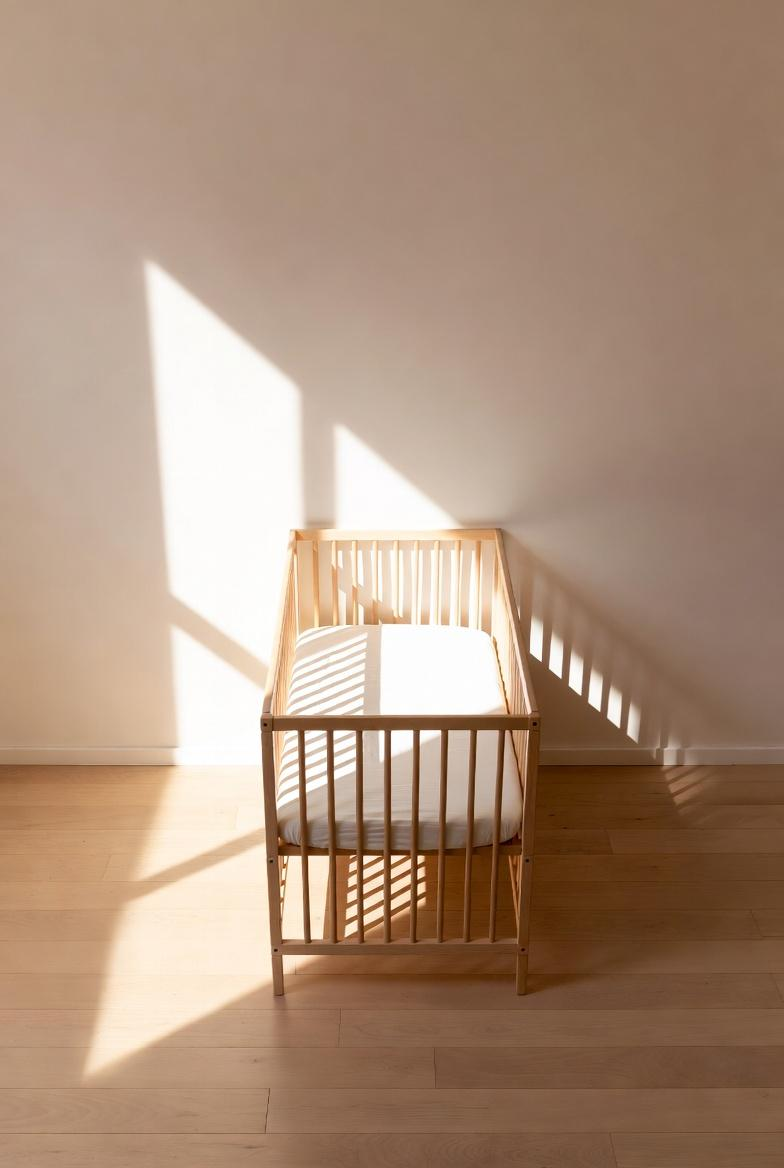crib: (261, 530, 540, 994)
